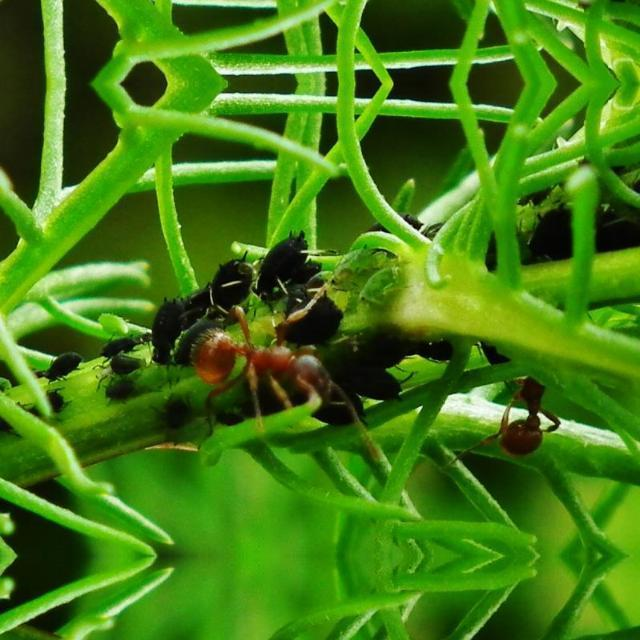Myrmica: (168, 294, 372, 426), (482, 334, 564, 464)
